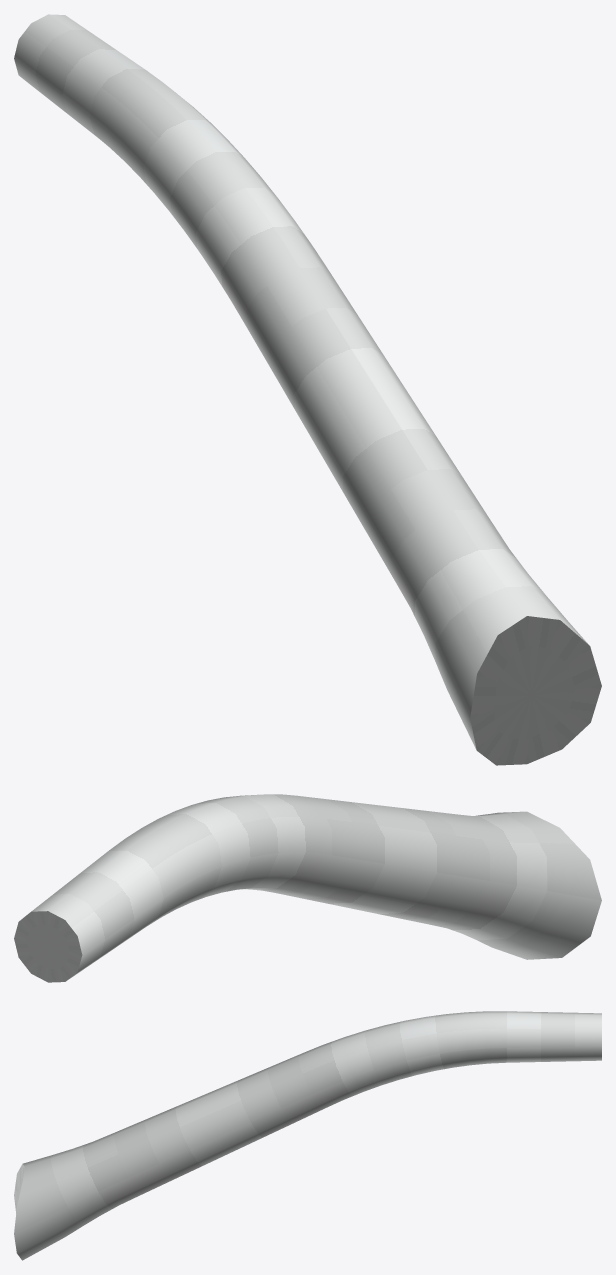
Rendered from luminairearm_caltrans6ftstraight_inv.obj.
3 views of the same model, one above another, from view 1: azimuth 30°, elevation 25°; view 2: azimuth 150°, elevation 25°; view 3: azimuth 270°, elevation 25° (orthographic). The views are drawn at different scales.
Parts seen in each view (by area): view 1: luminairearm_caltrans6ftstraight_inv; view 2: luminairearm_caltrans6ftstraight_inv; view 3: luminairearm_caltrans6ftstraight_inv.
Boxes of the visible parts, x1,y1,x2,y2 form: luminairearm_caltrans6ftstraight_inv: (14,14,601,765); luminairearm_caltrans6ftstraight_inv: (14,794,601,982); luminairearm_caltrans6ftstraight_inv: (14,1011,601,1260).
Bounding box in the file's own units: 0.1559 × 0.455 × 1.
